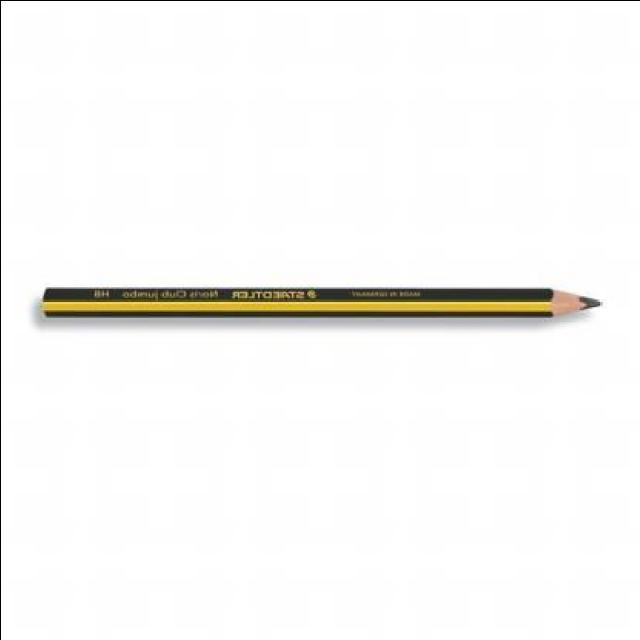pencil: (526, 275, 614, 331)
